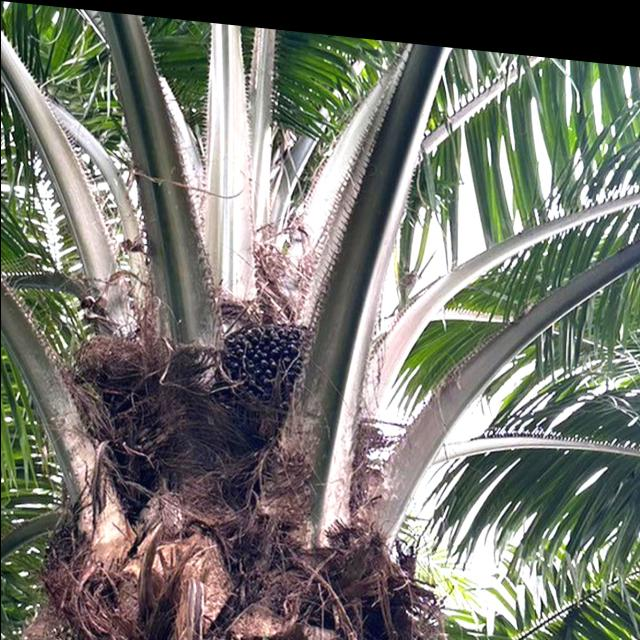unripe: (214, 306, 326, 415)
